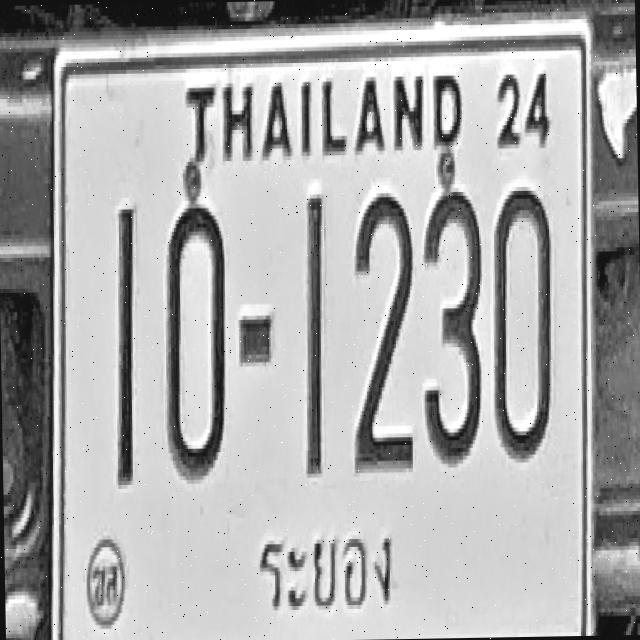0: (163, 197, 228, 478), (490, 184, 553, 460)
1: (113, 207, 138, 487), (302, 192, 326, 475)
2: (350, 190, 416, 471)
3: (420, 185, 485, 466)
Rayong: (254, 520, 397, 620)
